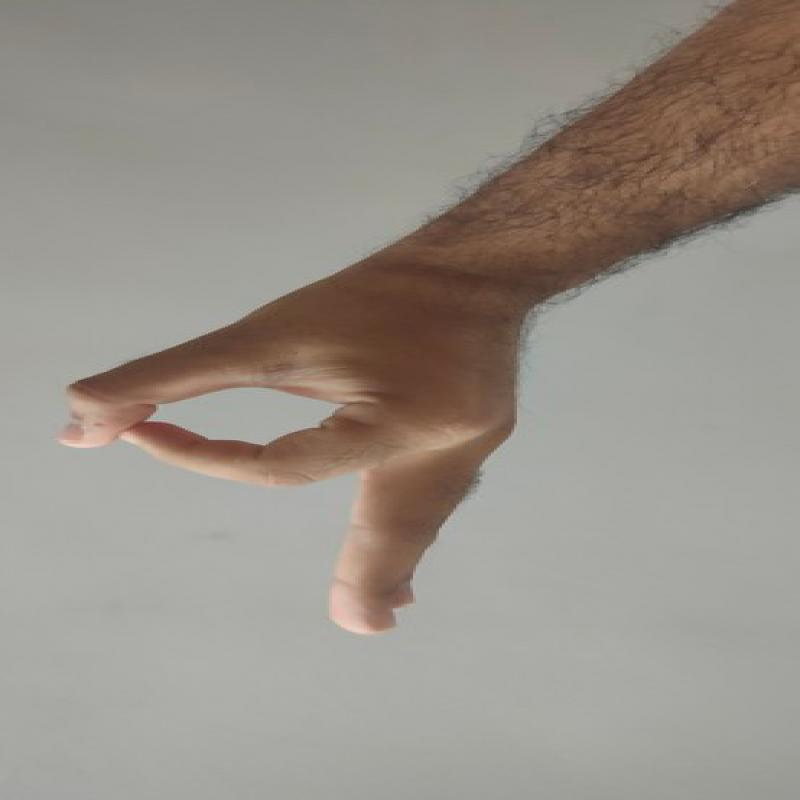Mudraakhyam: (43, 275, 535, 662)
